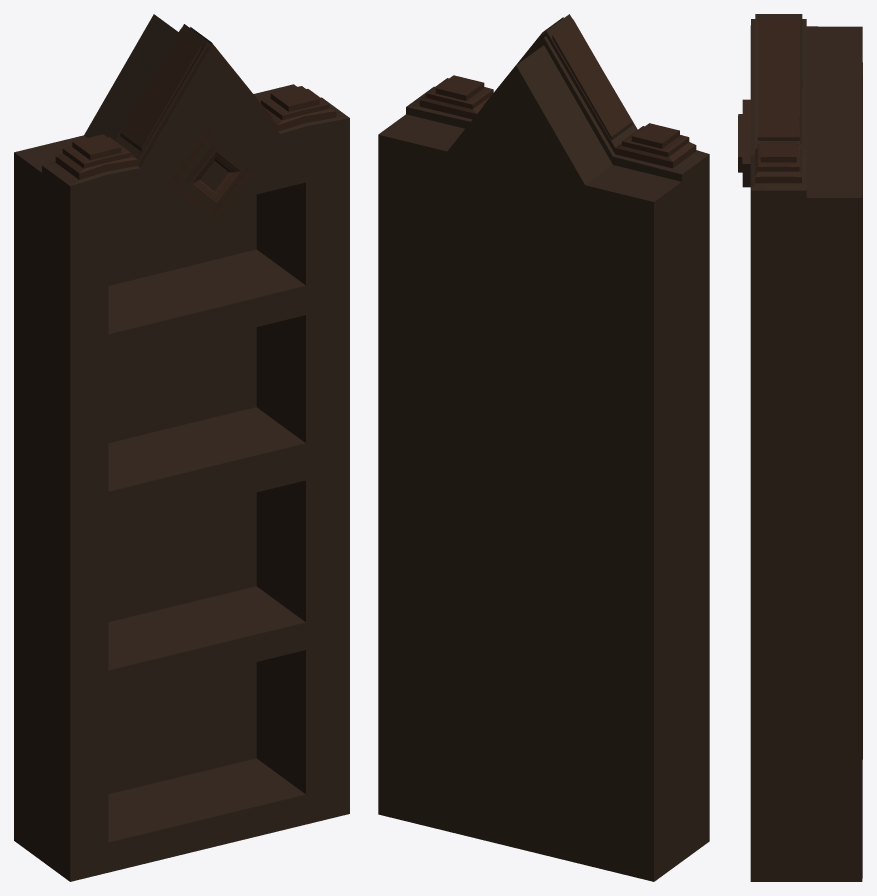
Rendered from Library 1 Empty .fbx.
3 views of the same model, side by side, from view 1: azimuth 30°, elevation 25°; view 2: azimuth 150°, elevation 25°; view 3: azimuth 270°, elevation 25° (orthographic).
Visible parts, largest first — view 1: Library 3.003; view 2: Library 3.003; view 3: Library 3.003.
Part boxes in pixels (x1,y1,x2,y2): Library 3.003: (14, 14, 349, 881); Library 3.003: (378, 14, 709, 881); Library 3.003: (738, 14, 862, 881).
Size of the model in its own units: 200 by 550 by 77.77.
